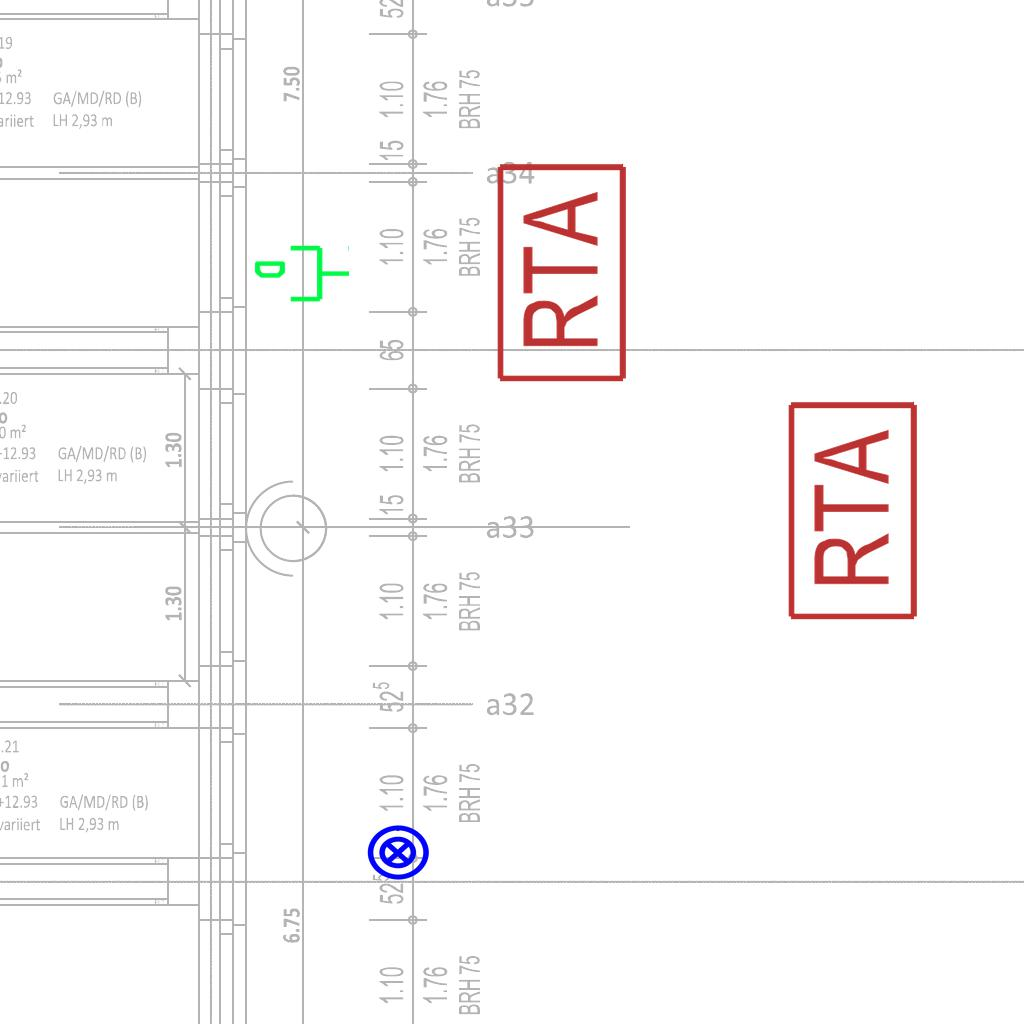Datenanschluss_einfach: (252, 241, 352, 310)
Ruf-und_Abstelltaster: (784, 399, 922, 627), (493, 161, 631, 389)
Taster_beleuchtet: (365, 820, 431, 886)
